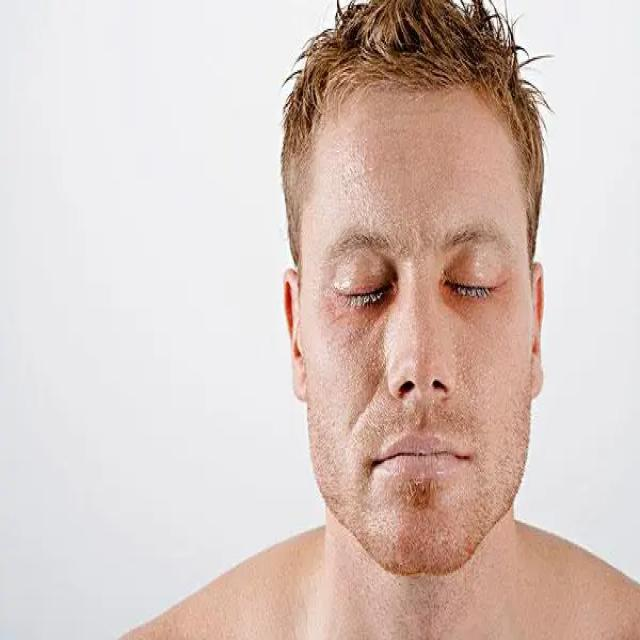Closed: (440, 249, 515, 312), (327, 250, 396, 315)
